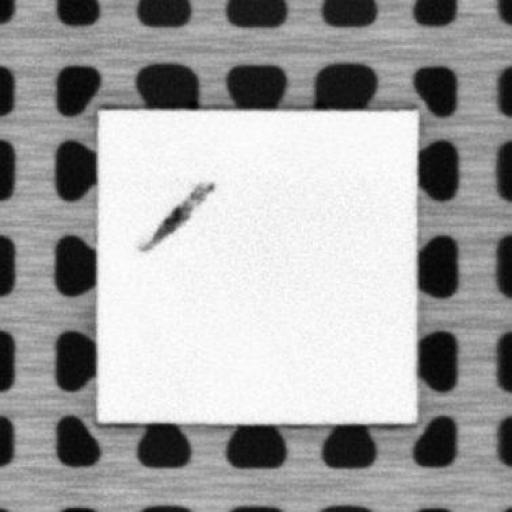DIE_INK: (131, 180, 214, 252)
